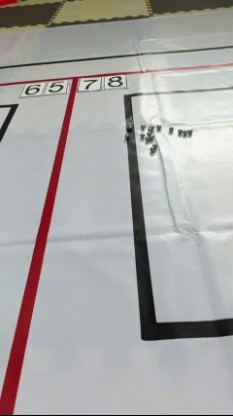ironball: (144, 135, 154, 146), (181, 128, 191, 138), (121, 130, 130, 141), (123, 120, 132, 129), (138, 128, 147, 137), (154, 123, 162, 133), (166, 123, 174, 132), (145, 146, 154, 154), (147, 122, 154, 132), (174, 129, 182, 137), (186, 127, 192, 136), (146, 128, 152, 137), (140, 122, 147, 128), (150, 142, 158, 147)
